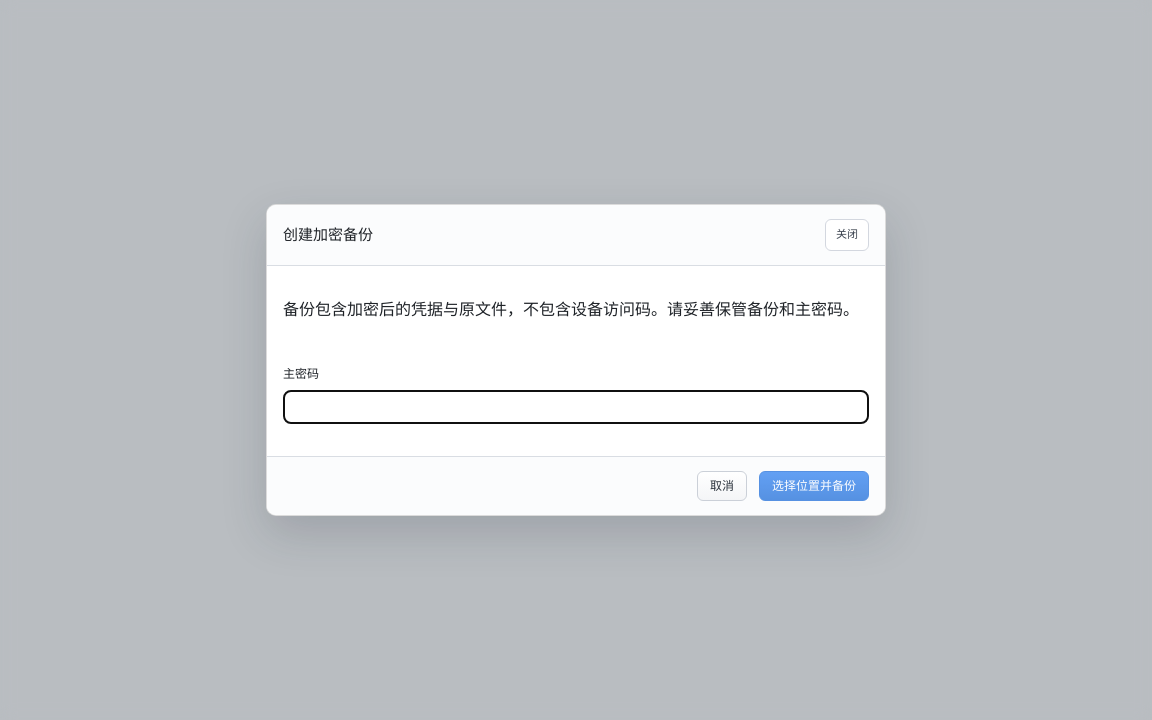
Test: credential maintenance › does not report backup success after cancelling the native destination picker
Type "synthetic-master-123" into the password field labelled "主密码" at (576, 407), box [283, 390, 869, 424]
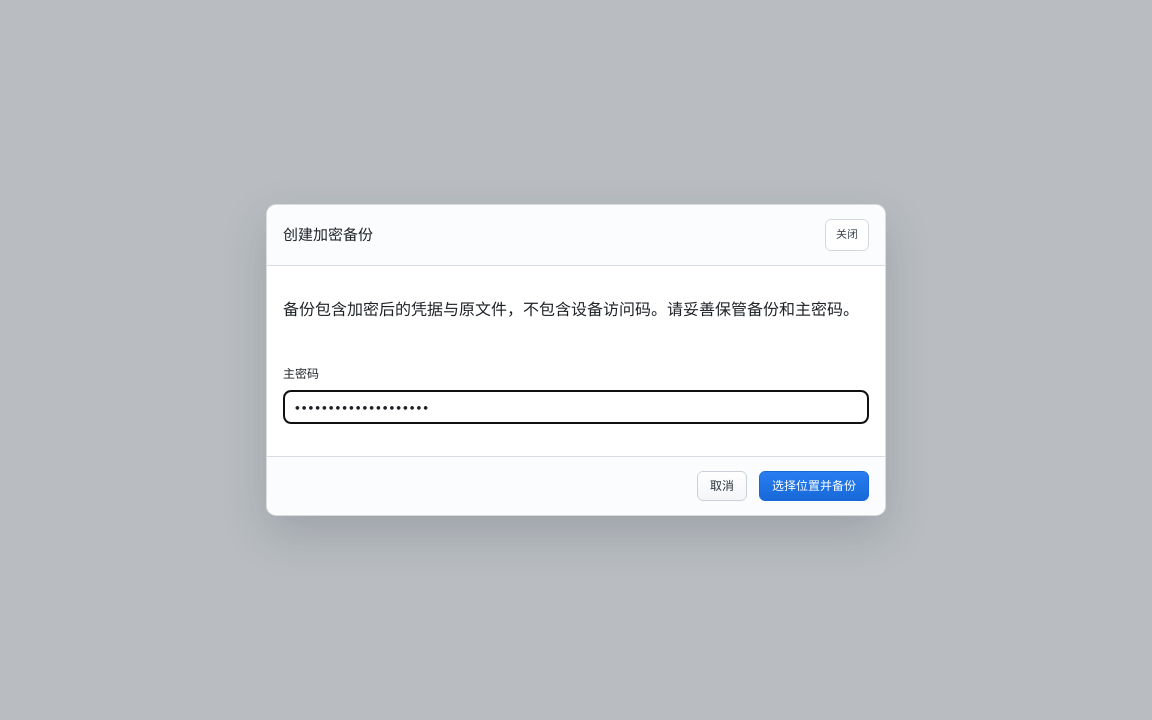
Click the button "选择位置并备份" at (814, 486), box [759, 472, 869, 502]
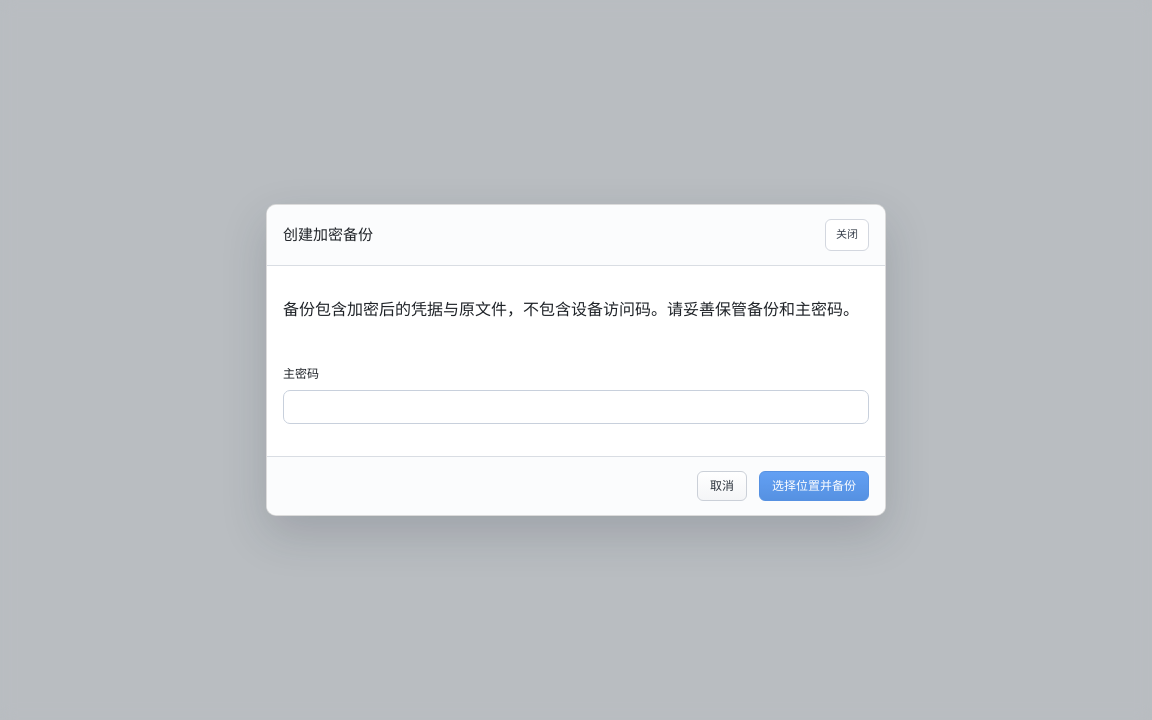
Expected: the dialog "创建加密备份" is shown, [266, 204, 886, 516]
Expected: the button "选择位置并备份" is disabled, [759, 472, 869, 502]
